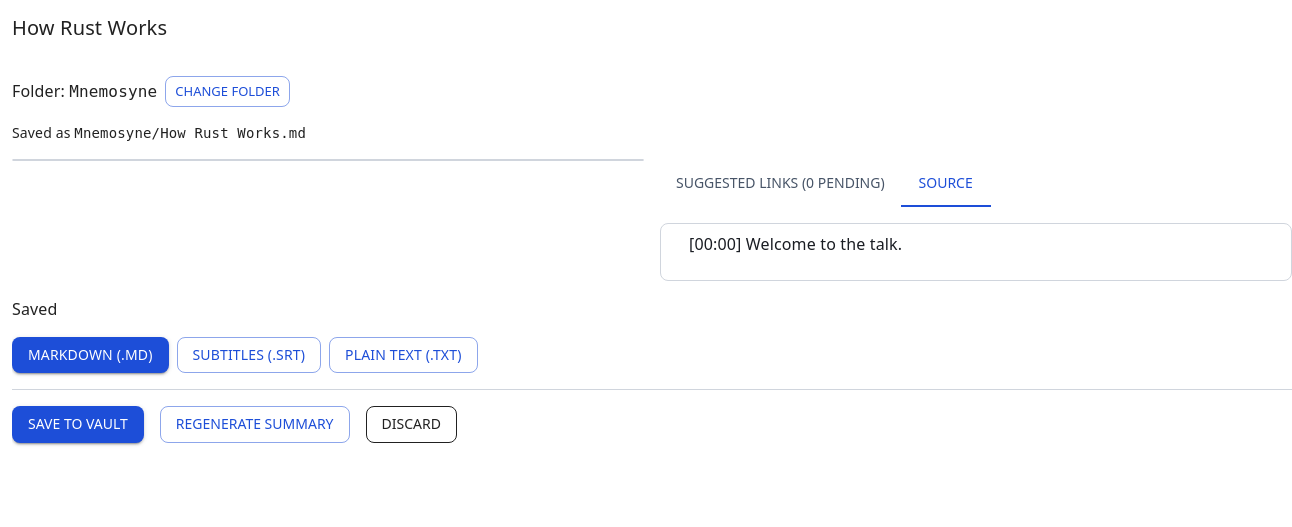
Test: ReviewScreen save › shows the server message on failure
Click the button "Save to vault" at (78, 425), box [12,406,144,443]
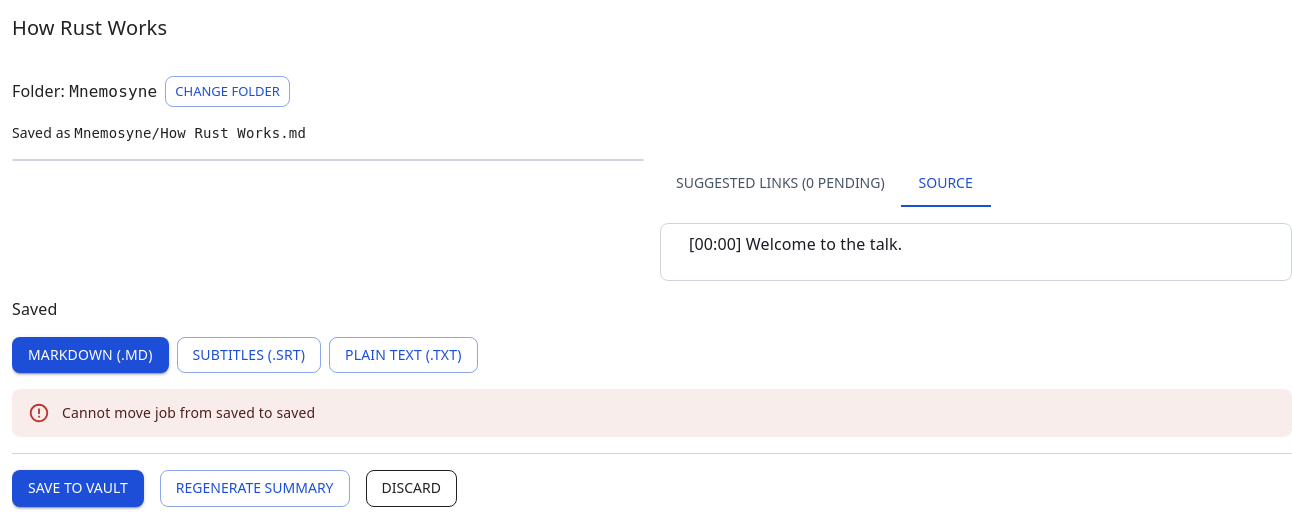
Expected: the button "Save to vault" is enabled, [12,470,144,507]
Expected: the message "Cannot move job from saved to saved" is shown, [12,389,1291,437]
